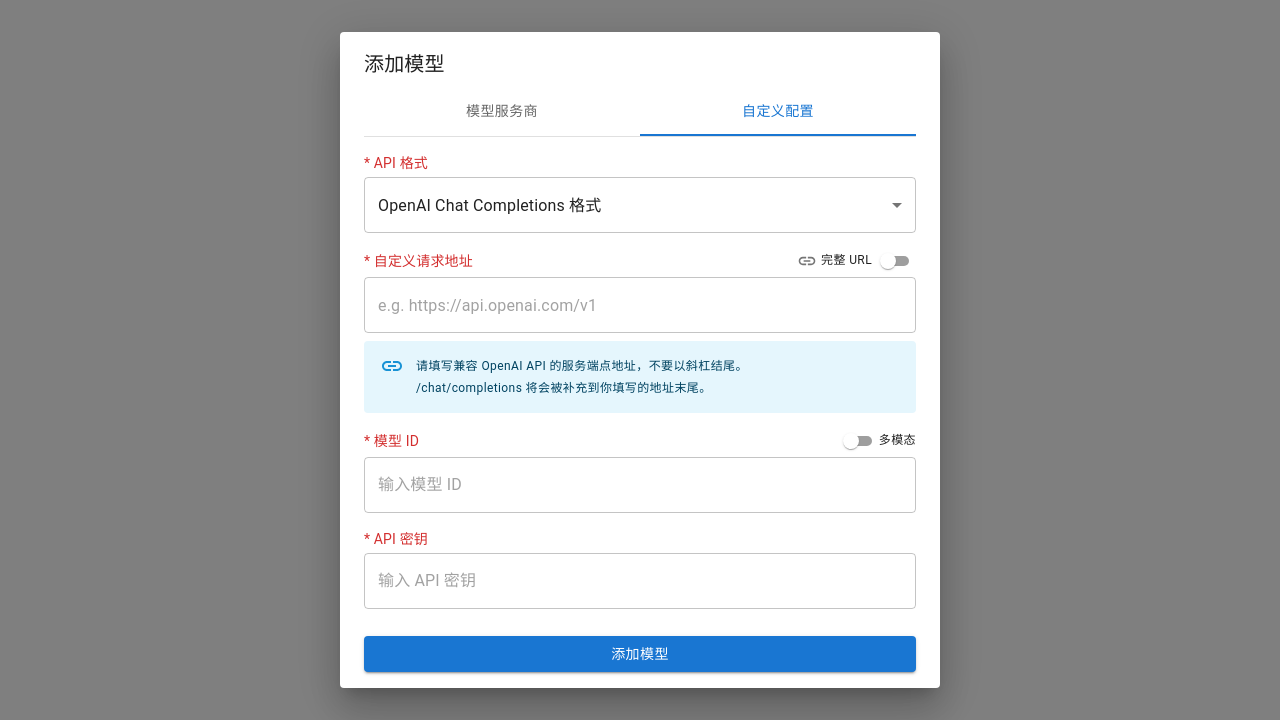
it: AddModelDialog 组件测试 › 表单验证 › 空 API 地址时显示错误
Type "test-model" into the field with placeholder "输入模型 ID" at (640, 485), box [364, 457, 916, 513]
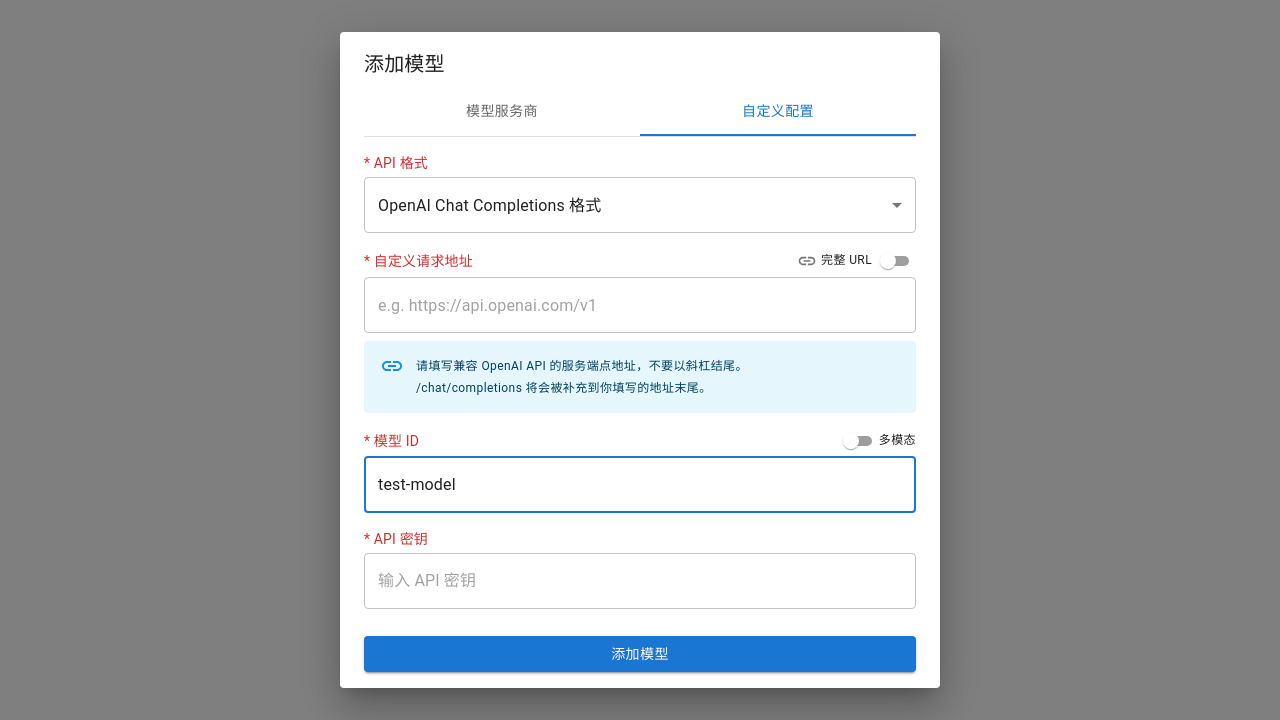
Click the button "添加模型" at (640, 654), box [364, 636, 916, 672]
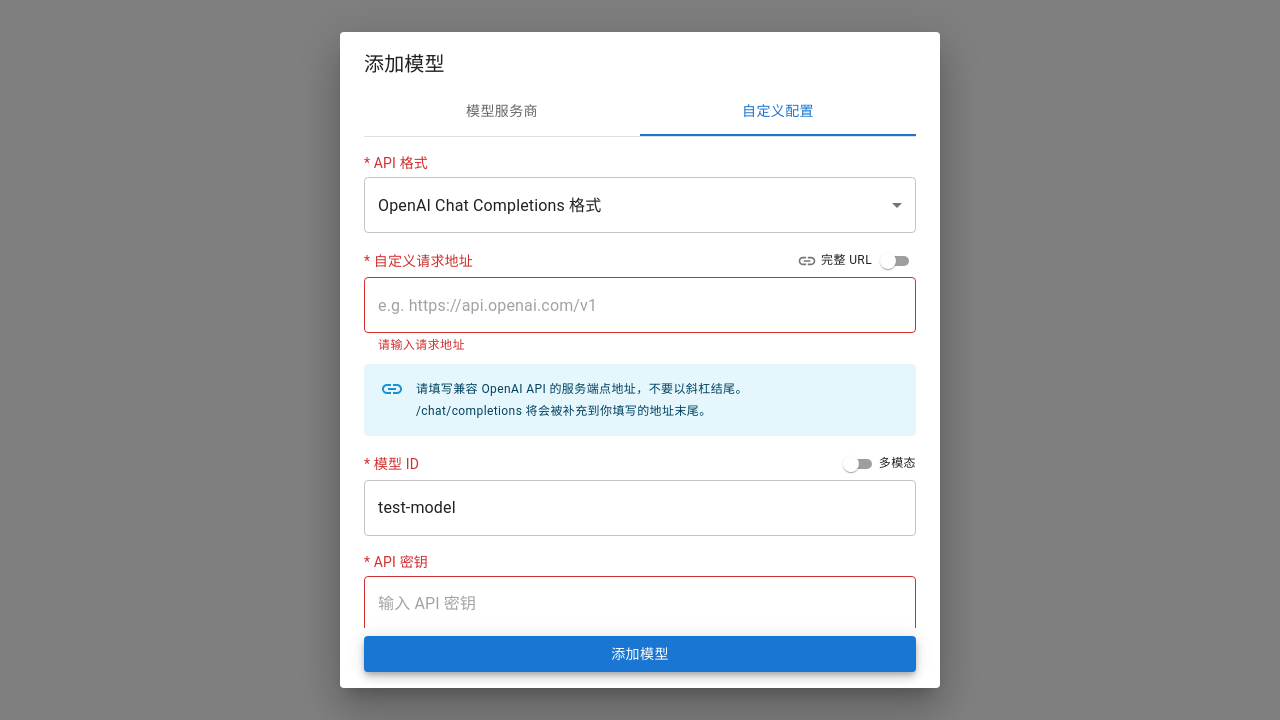
Check: the text "请输入请求地址" is shown, box [378, 338, 465, 352]
